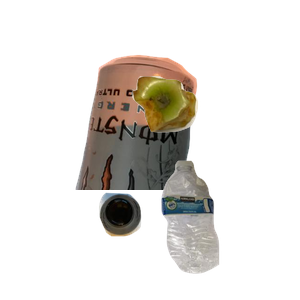glass: (96, 190, 230, 300)
metal: (73, 52, 263, 232)
plastic: (159, 158, 300, 300)
trash: (130, 74, 300, 199)
